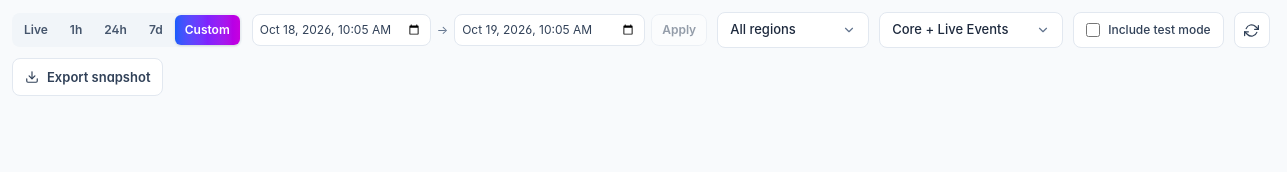
it: in the Command Center filter bar › still refuses an inverted window
Replace the text in the field named "Window end" with "2026-10-17T10:05" at (550, 30), box [454,14,645,46]
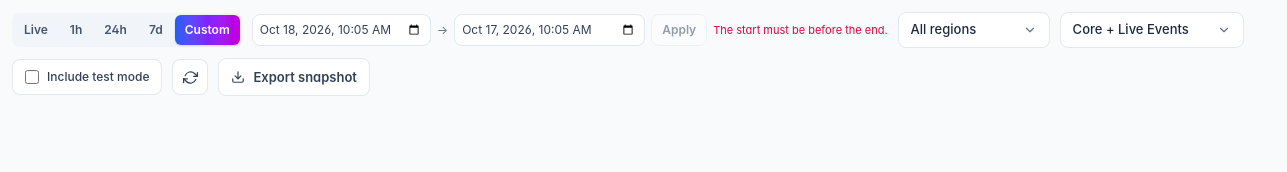
Expected: the button "Apply" is disabled, [651,14,707,46]
Expected: the message shows "start must be before the end", [713,23,888,37]
